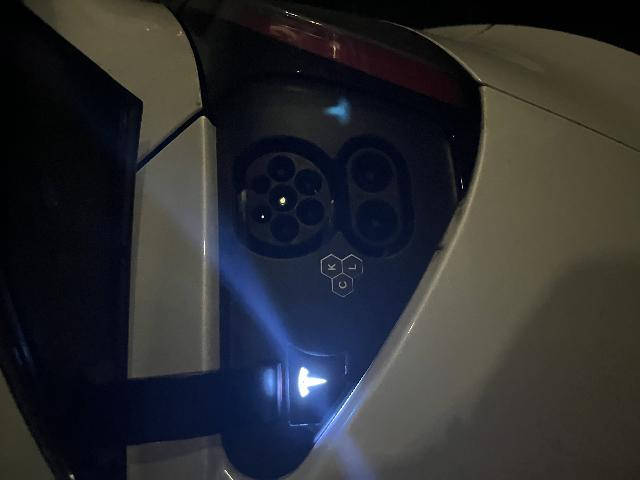inlet: (234, 246, 328, 331)
inlet-above-left: (256, 251, 275, 272)
inlet-above-right: (285, 250, 306, 270)
inlet-below-left: (254, 296, 283, 326)
inlet-below-right: (284, 294, 311, 322)
inlet-circle: (268, 269, 296, 297)
inlet-circle-left: (238, 270, 267, 300)
inlet-circle-right: (297, 267, 325, 296)
inlet-minus: (286, 351, 328, 393)
inlet-plus: (237, 355, 281, 398)
